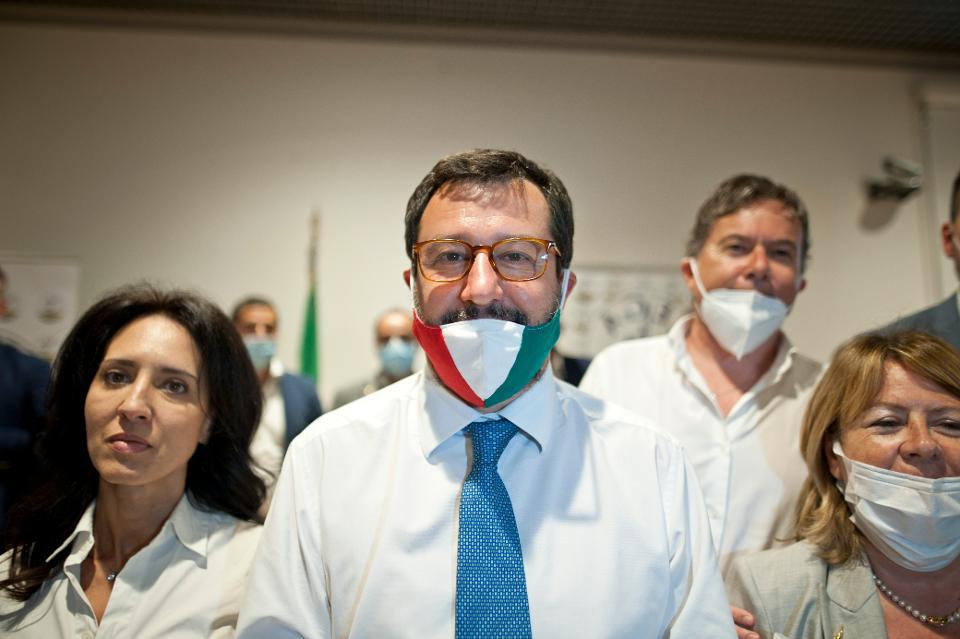mask_weared_incorrect: (413, 220, 550, 401), (686, 217, 803, 350), (866, 405, 958, 538)
with_mask: (240, 314, 274, 367), (378, 322, 412, 368)
without_mask: (82, 355, 201, 486)
